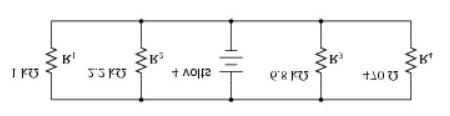Battery: (214, 41, 251, 77)
